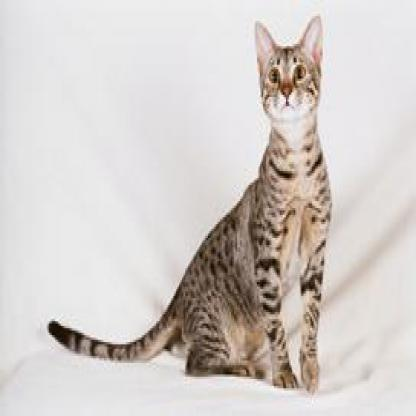cat: (46, 11, 333, 393)
